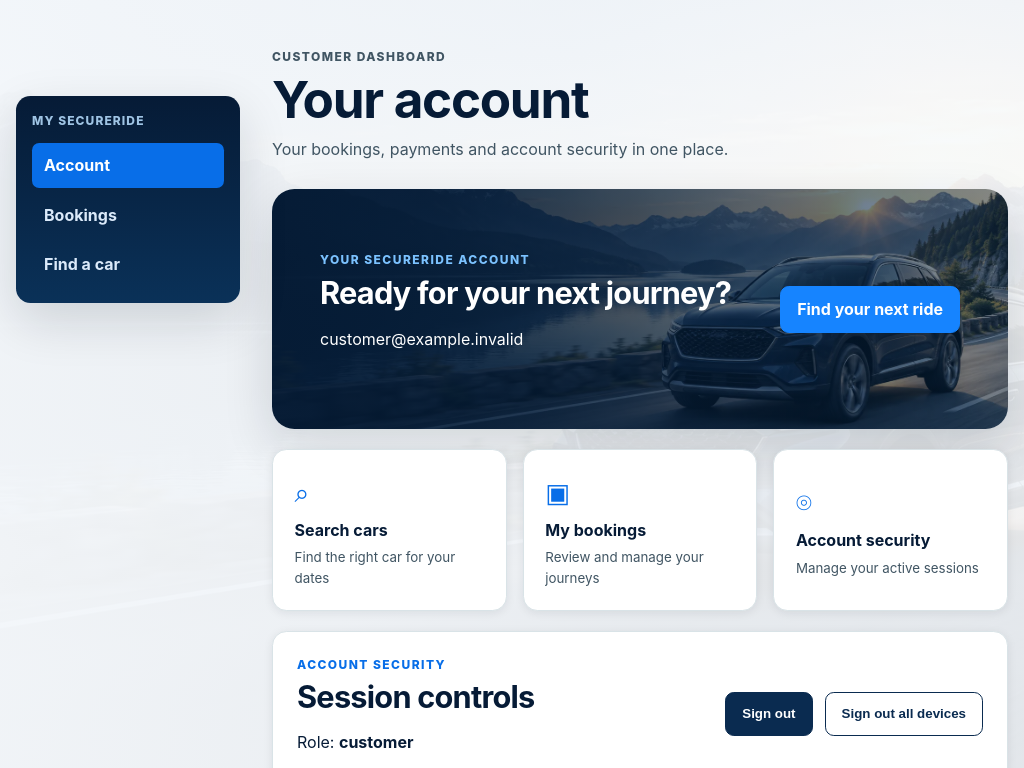
minimal authentication pages › reports unconfirmed server logout while clearing local UI
The image size is (1024, 768).
Expected: the heading "Your account" is shown, [272,68,588,130]
Step 1. Click the button "Sign out" → (769,714), box [725,692,813,736]
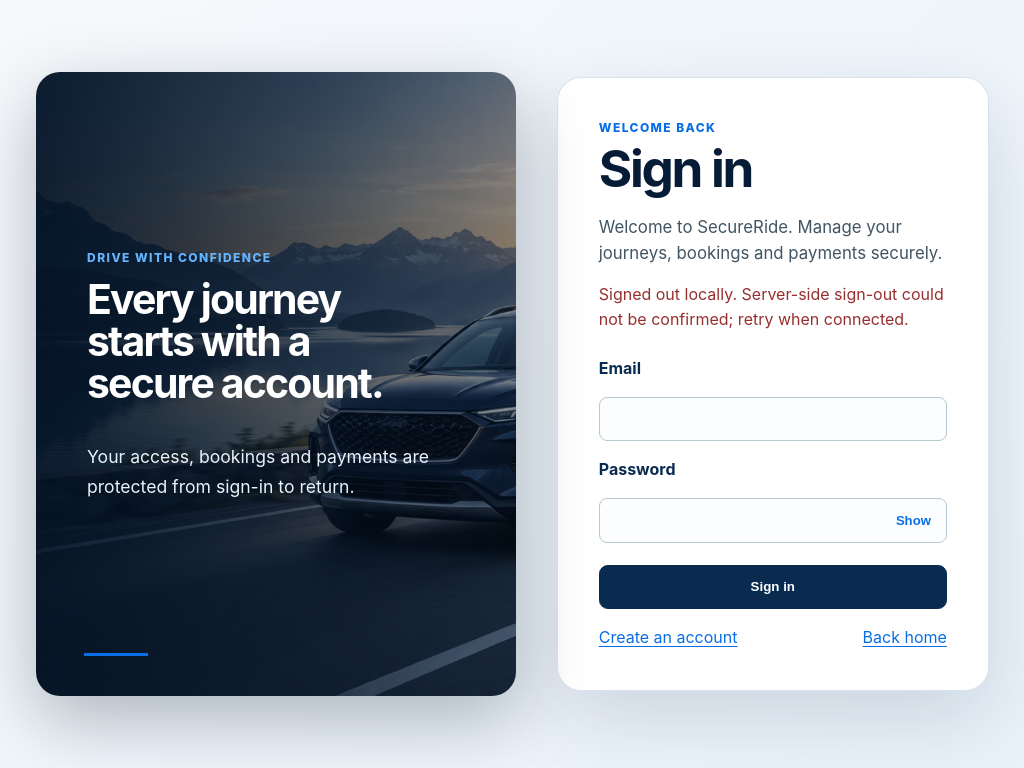
Result: the message shows "Server-side sign-out could not be confirmed" at [599,284,944,329]
